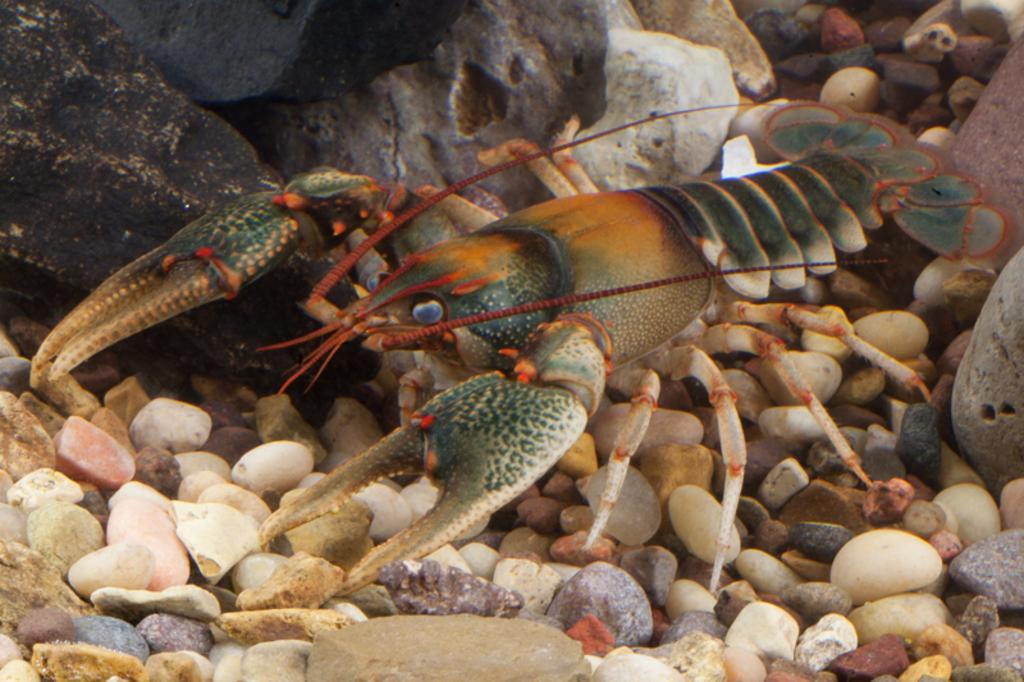Lobster: (251, 102, 1011, 601)
